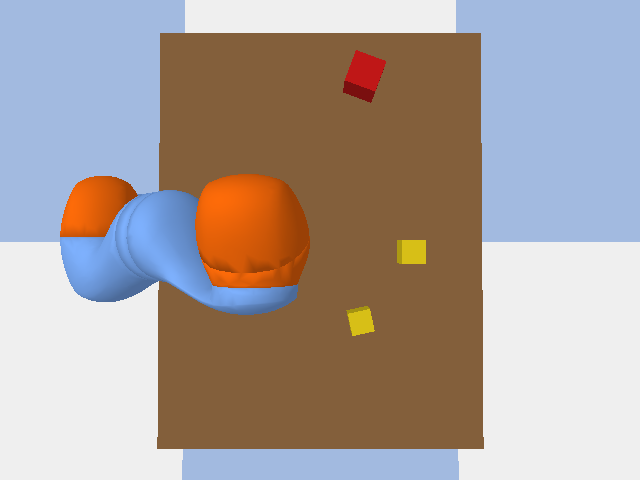red_obj: (343, 50, 385, 102)
yellow_obj: (346, 306, 374, 335), (397, 240, 425, 263)
